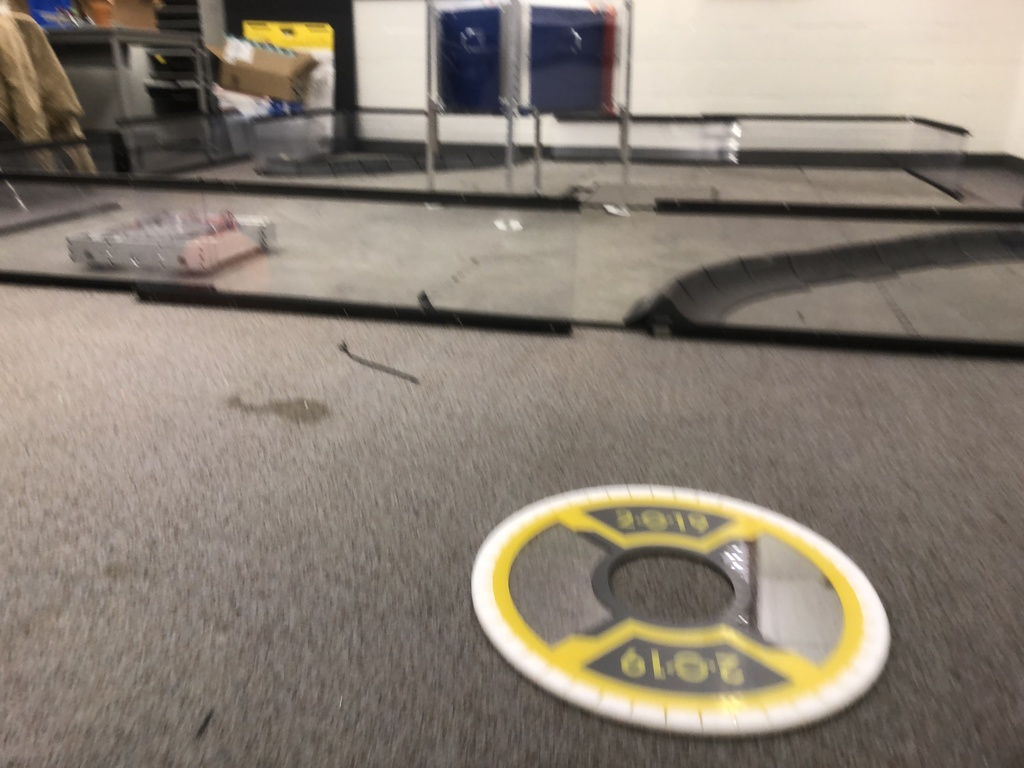hatch_panel: (462, 466, 921, 768)
